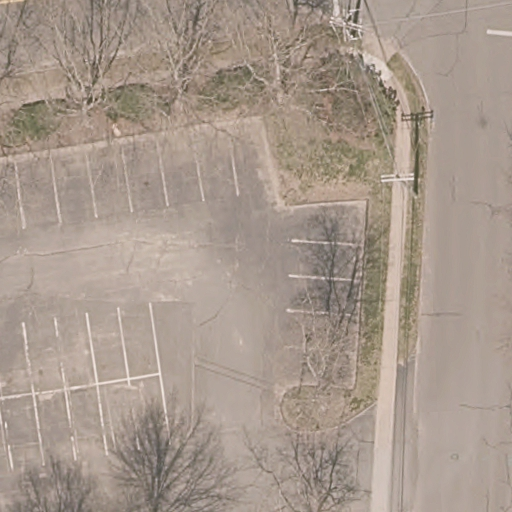DT: (329, 10, 370, 41), (377, 169, 418, 187)
